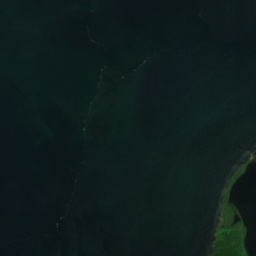Marine Debris: (54, 176, 80, 231)
